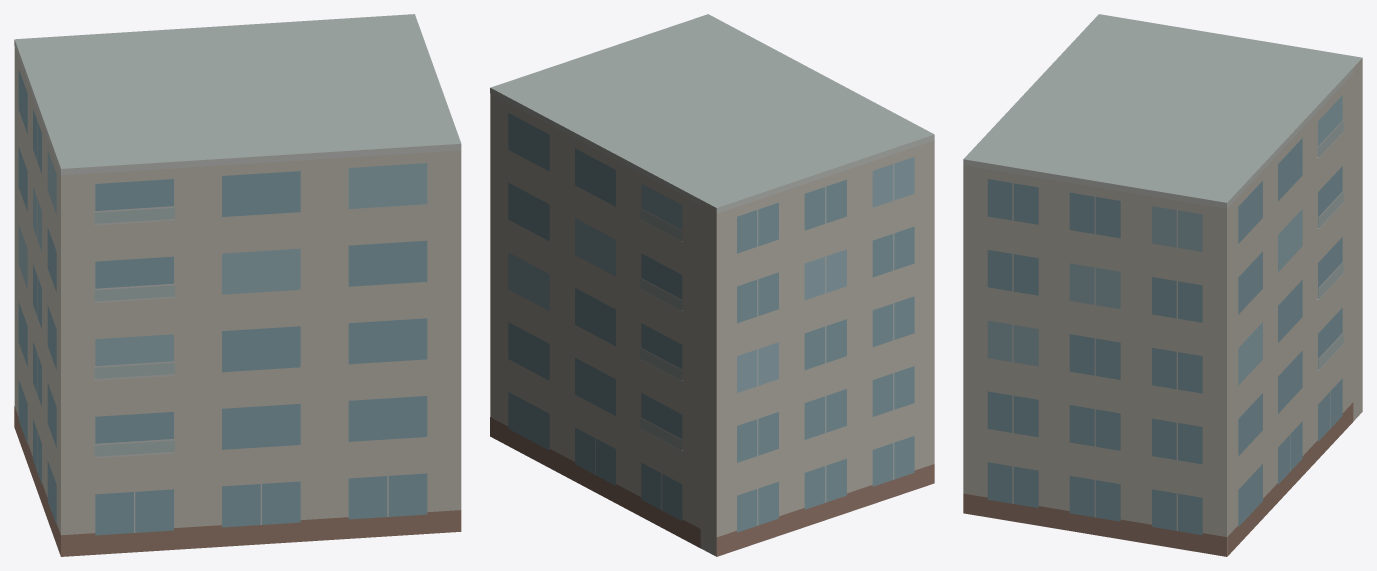
The model's file is survey-upis-32717908.glb.
The picture shows the model from 3 angles, left to right: view 1: azimuth 30°, elevation 25°; view 2: azimuth 150°, elevation 25°; view 3: azimuth 270°, elevation 25°; orthographic projection. The views are drawn at different scales.
Visible parts, largest first — view 1: survey-upis-32717908.tmp; view 2: survey-upis-32717908.tmp; view 3: survey-upis-32717908.tmp.
Boxes of the visible parts, x1=… form: survey-upis-32717908.tmp: x1=14, y1=14, x2=461, y2=556; survey-upis-32717908.tmp: x1=490, y1=14, x2=934, y2=556; survey-upis-32717908.tmp: x1=963, y1=14, x2=1362, y2=556.
Size of the model in its own units: 16.77 by 14.65 by 14.99.
